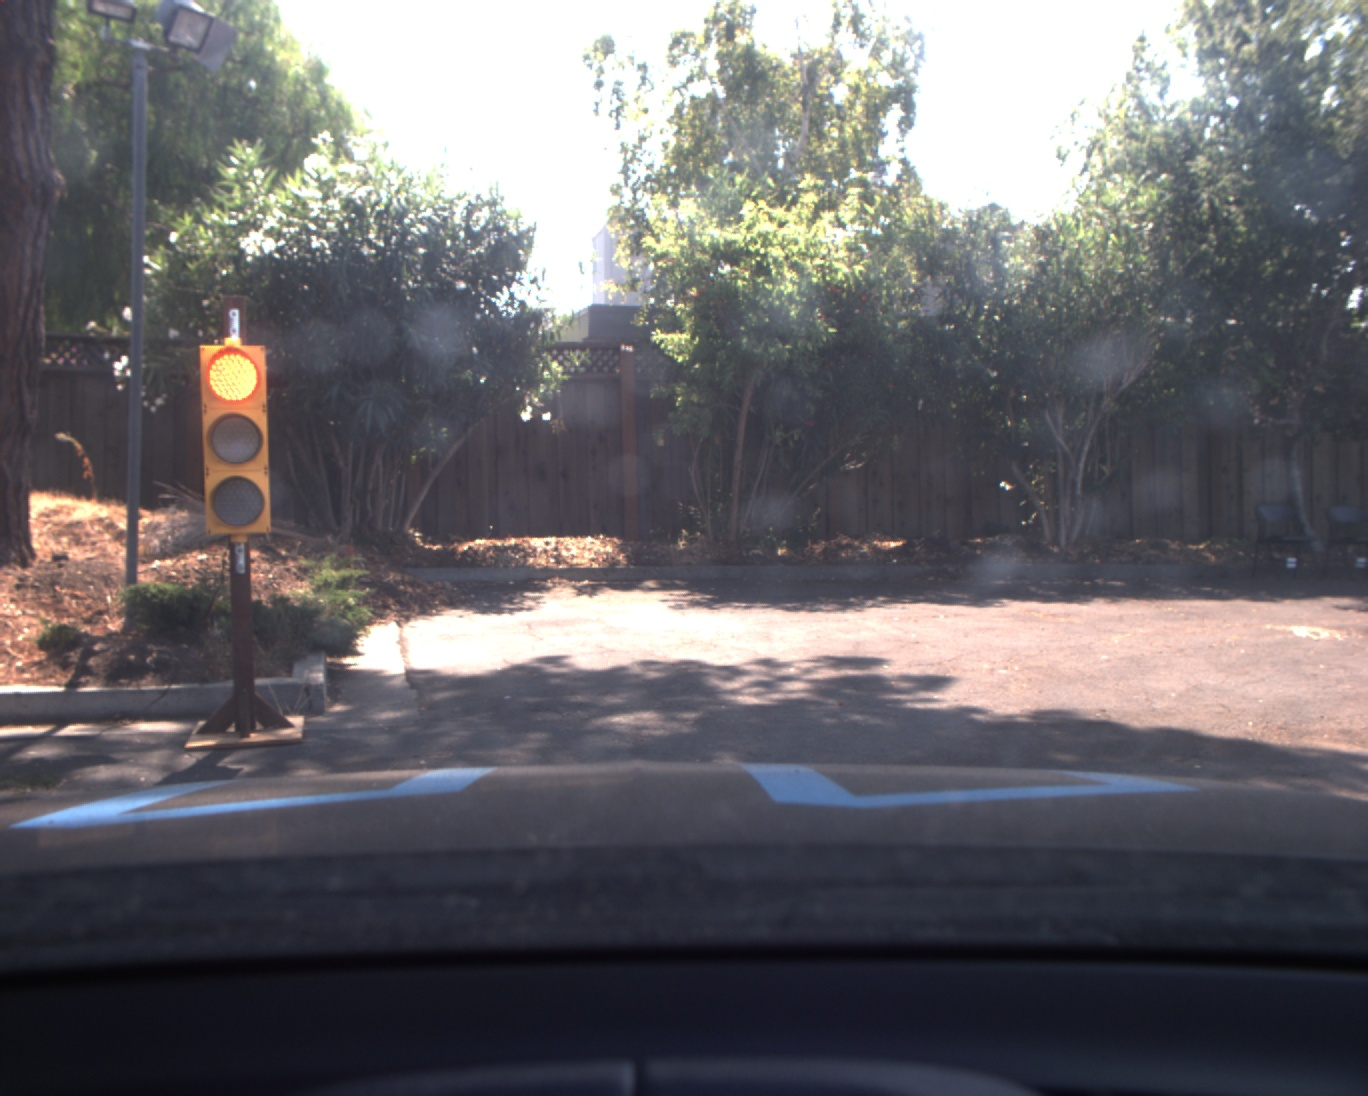red: (198, 344, 268, 534)
